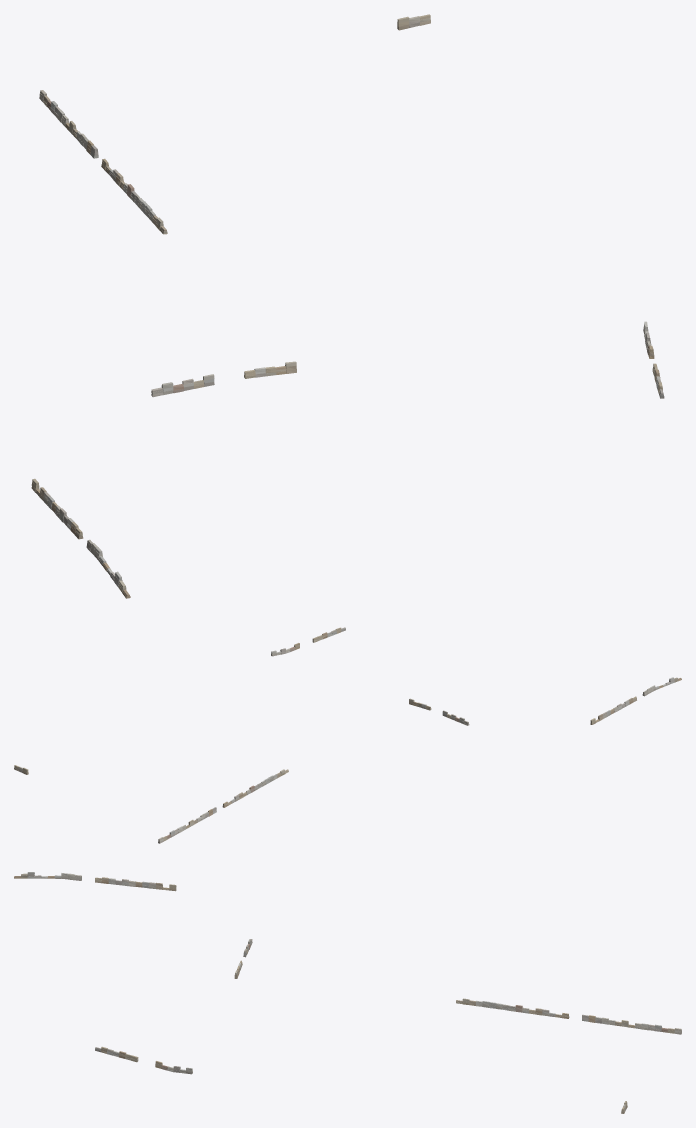
Rendered from farm_-5_19_mid.glb.
3 views of the same model, one above another, from view 1: azimuth 30°, elevation 25°; view 2: azimuth 150°, elevation 25°; view 3: azimuth 270°, elevation 25° (orthographic). The views are drawn at different scales.
Parts seen in each view (by area): view 1: geometry_0; view 2: geometry_0; view 3: geometry_0.
Part boxes in pixels (x1,y1,x2,y2): geometry_0: (31,14,664,598); geometry_0: (14,627,681,843); geometry_0: (14,872,681,1113).
Size of the model in its own units: 128 by 6.79 by 154.
